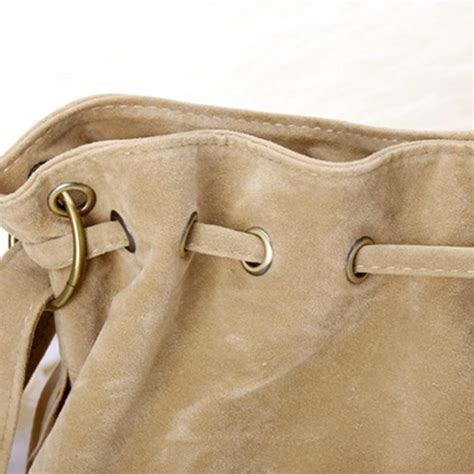gamuza: (1, 95, 474, 474)
